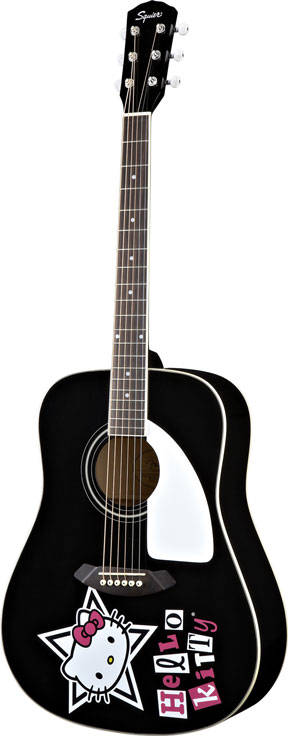guitar: (1, 2, 288, 732)
